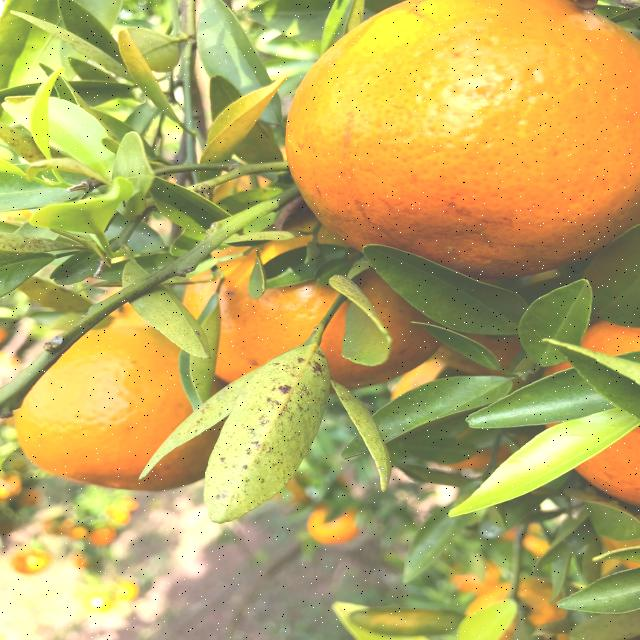melanose: (170, 350, 339, 534)
